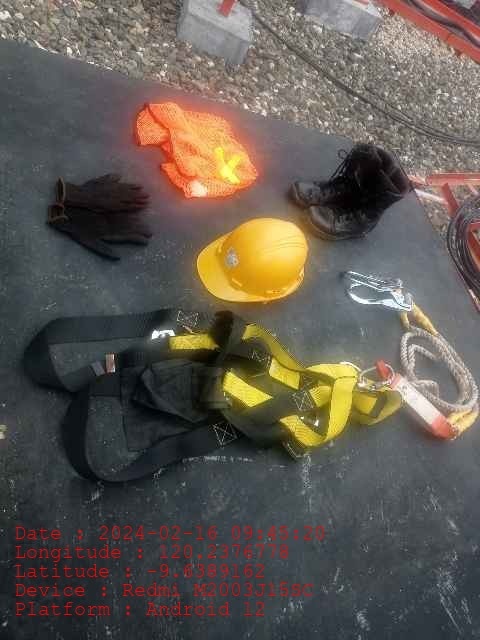HELM: (198, 217, 308, 302)
ROMPI: (139, 100, 269, 197)
SARUNG_TANGAN: (43, 203, 153, 262), (55, 173, 148, 212)
SEPATU: (292, 140, 412, 239)
TAMBANG_SLING: (342, 266, 480, 444)
